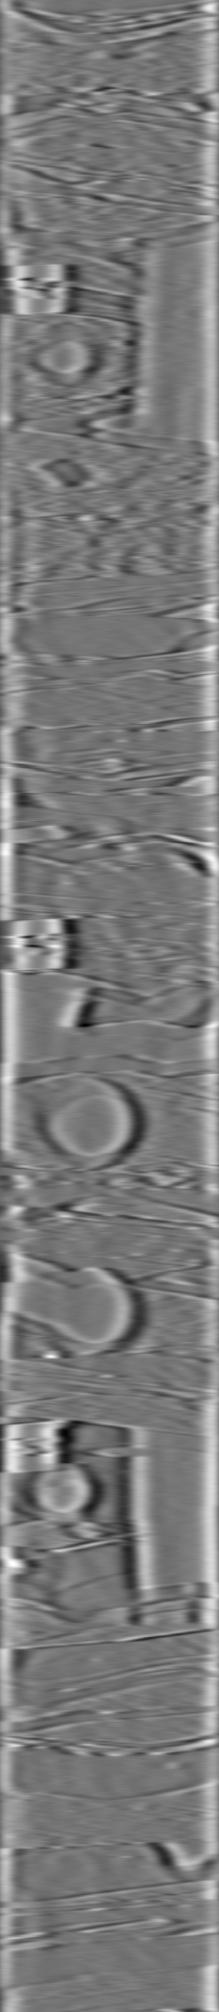hplug: (23, 314, 106, 394), (27, 1462, 100, 1528), (146, 1844, 219, 1882)
scal: (37, 1074, 149, 1175), (46, 1263, 154, 1359)
vplug: (119, 228, 216, 463), (120, 1411, 210, 1628)
